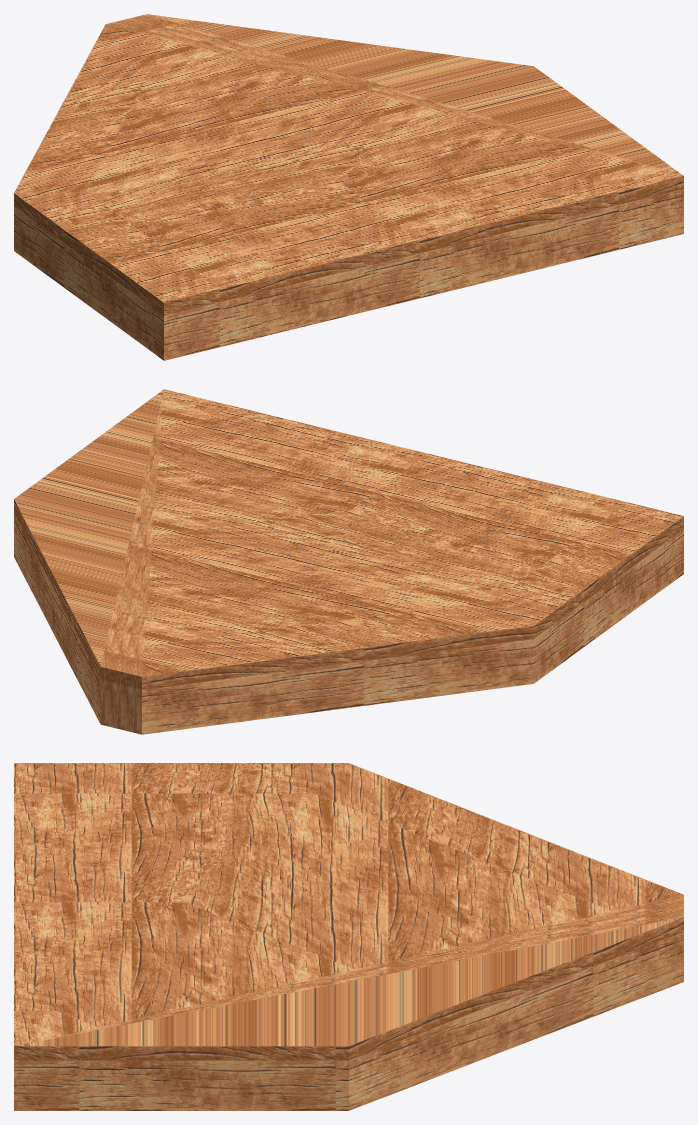
File: detail_two.fbx
3 views of the same model, one above another, from view 1: azimuth 30°, elevation 25°; view 2: azimuth 150°, elevation 25°; view 3: azimuth 270°, elevation 25° (orthographic). The views are drawn at different scales.
Visible parts, largest first — view 1: detail; view 2: detail; view 3: detail.
Part boxes in pixels (x1,y1,x2,y2): detail: (14,14,683,360); detail: (14,389,683,734); detail: (14,763,683,1110).
Bounding box in the file's own units: 24.19 × 2.57 × 24.19.
